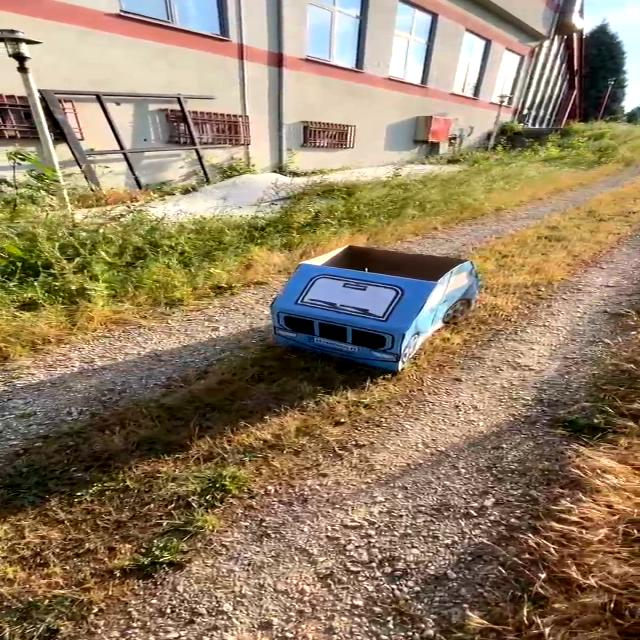blue_car: (199, 217, 535, 388)
